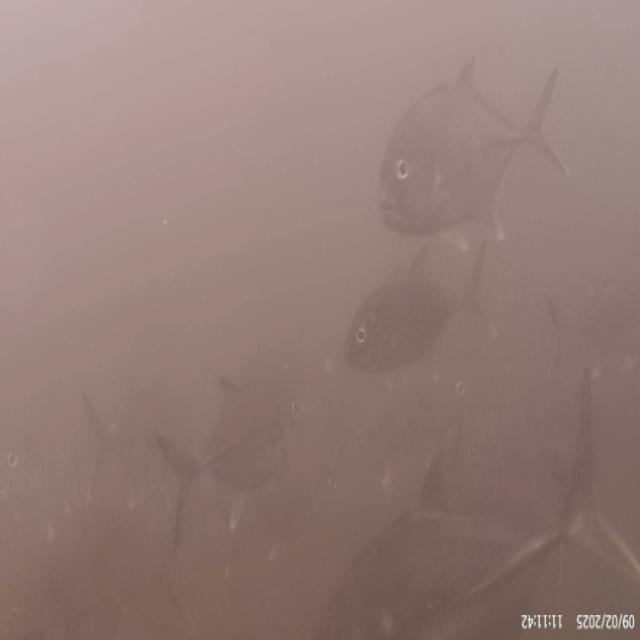ikan: (357, 59, 582, 233), (152, 363, 328, 513), (319, 269, 502, 386)
